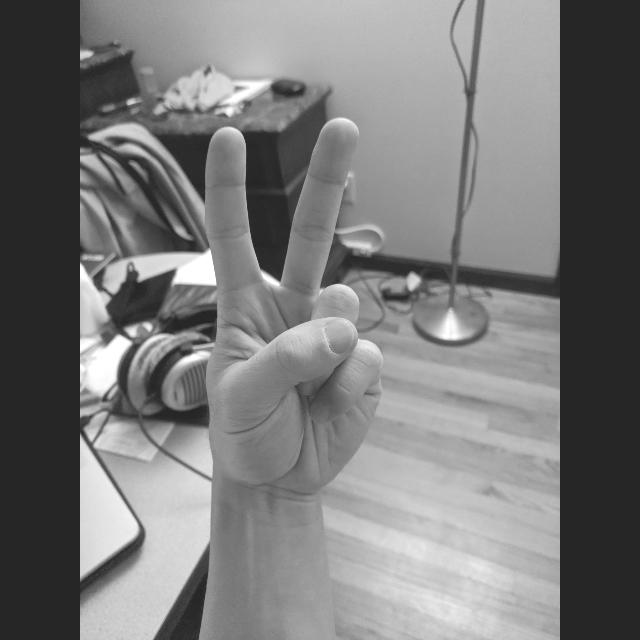V: (196, 113, 390, 501)
